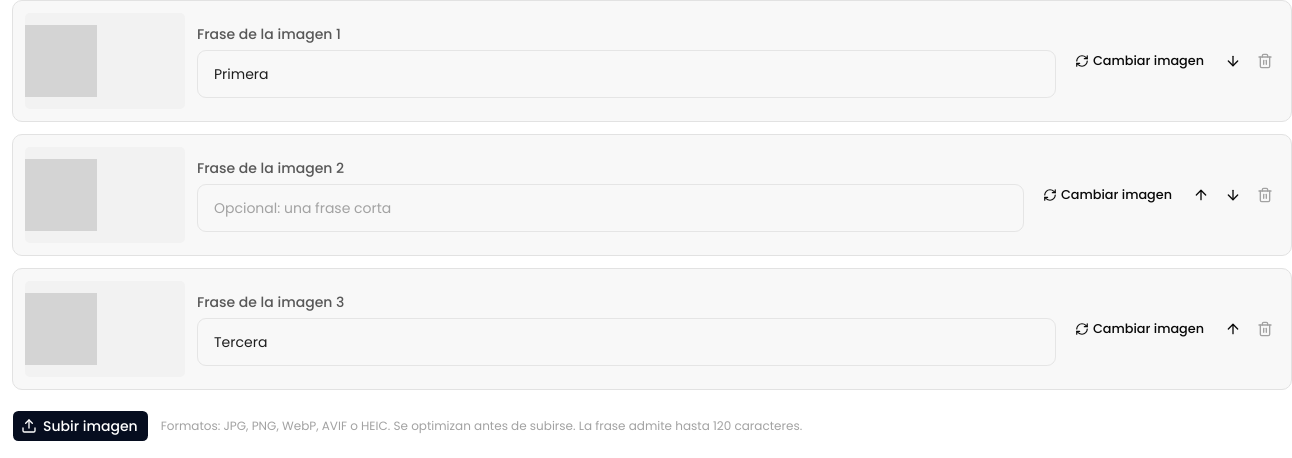
editing a caption › confirms that it saved
Replace the text in the field labelled "Frase de la imagen 1" with "Otra frase" at [626, 74], box [197, 50, 1056, 98]
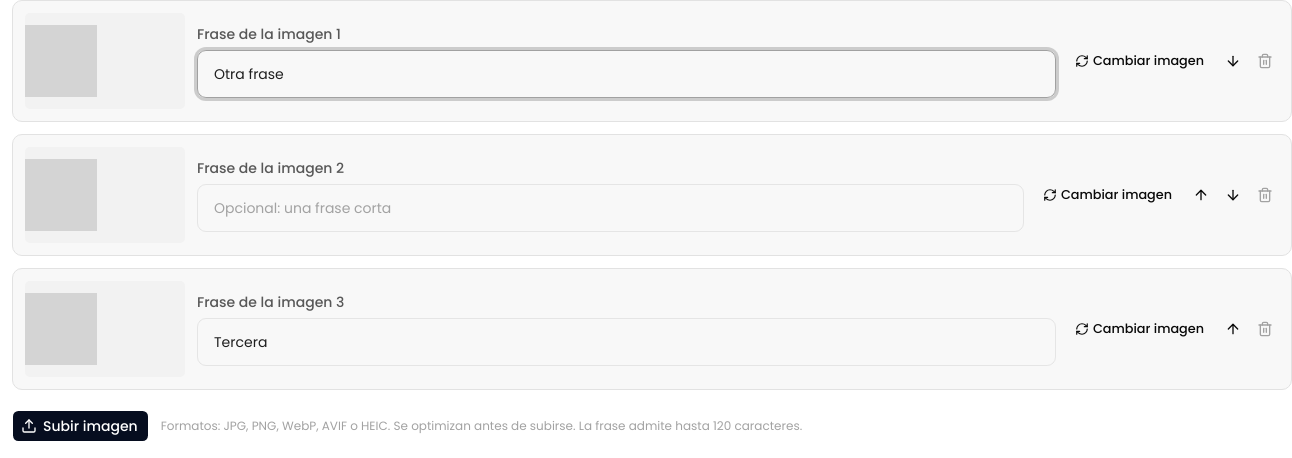
Press Tab
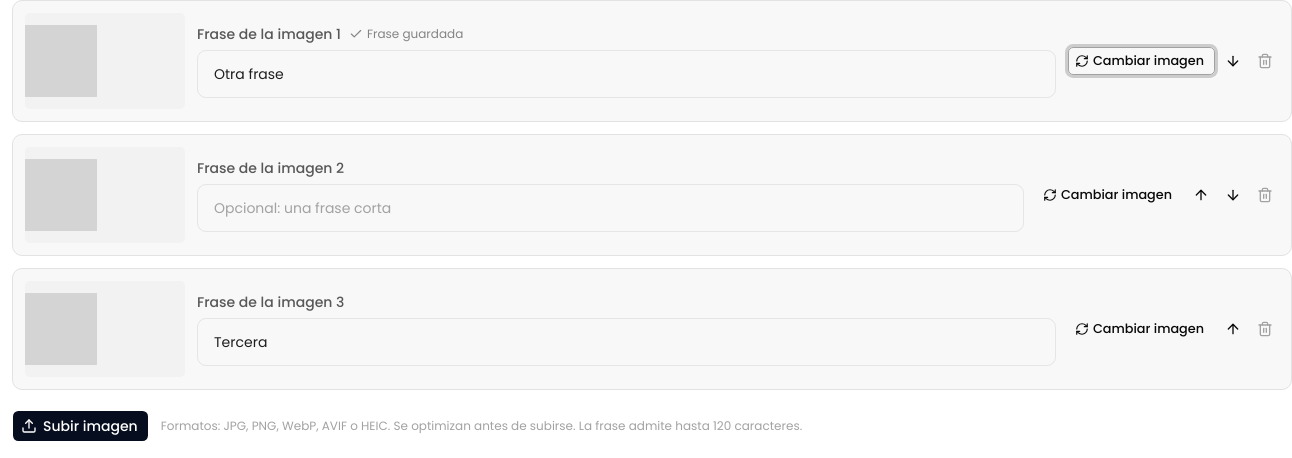
Result: the text "Frase guardada" is shown at [349, 26, 463, 42]
